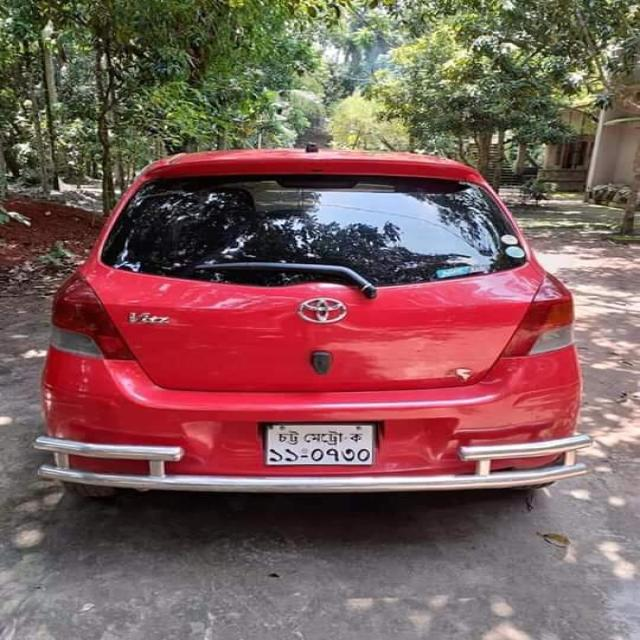red: (19, 136, 640, 488)
